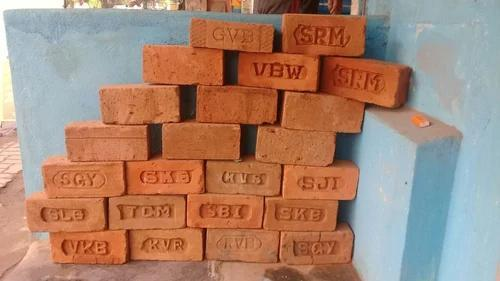brick: (321, 55, 398, 105), (284, 16, 363, 55), (285, 92, 366, 130), (255, 127, 335, 165), (142, 46, 222, 84), (235, 53, 317, 90), (42, 162, 125, 198), (195, 88, 278, 124), (101, 88, 180, 125), (65, 125, 146, 160), (162, 124, 240, 160), (26, 198, 106, 233), (192, 19, 272, 52), (109, 194, 185, 228), (130, 228, 203, 263), (128, 161, 205, 194), (205, 229, 278, 263), (280, 232, 352, 266), (187, 195, 263, 227), (53, 231, 128, 263), (208, 162, 279, 195), (283, 166, 358, 197), (265, 199, 339, 230)
